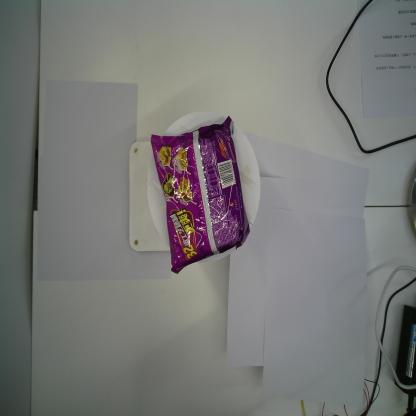Instant Noodles: (150, 115, 250, 276)
